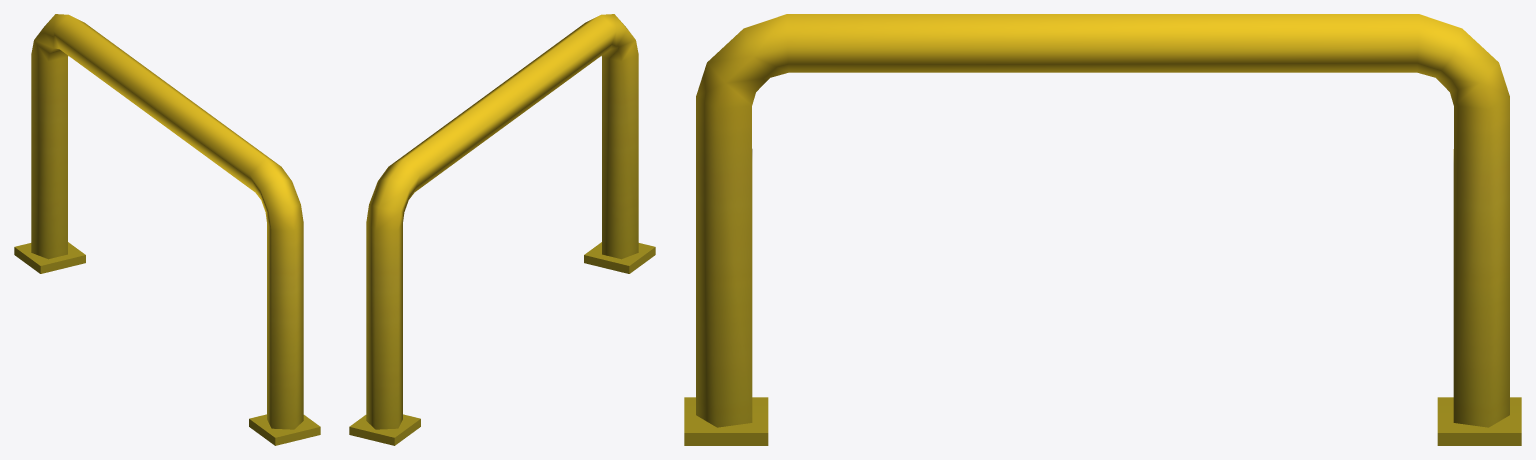
The model's file is Bollards_1_A.fbx.
The picture shows the model from 3 angles, left to right: view 1: azimuth 30°, elevation 25°; view 2: azimuth 150°, elevation 25°; view 3: azimuth 270°, elevation 25°; orthographic projection. The views are drawn at different scales.
Parts seen in each view (by area): view 1: Bollards_1_A; view 2: Bollards_1_A; view 3: Bollards_1_A.
Boxes of the visible parts, <box> form: Bollards_1_A: <box>14,14,320,445</box>; Bollards_1_A: <box>349,14,655,445</box>; Bollards_1_A: <box>684,14,1521,445</box>.
Bounding box in the file's own units: 15.3 × 83.2 × 152.
